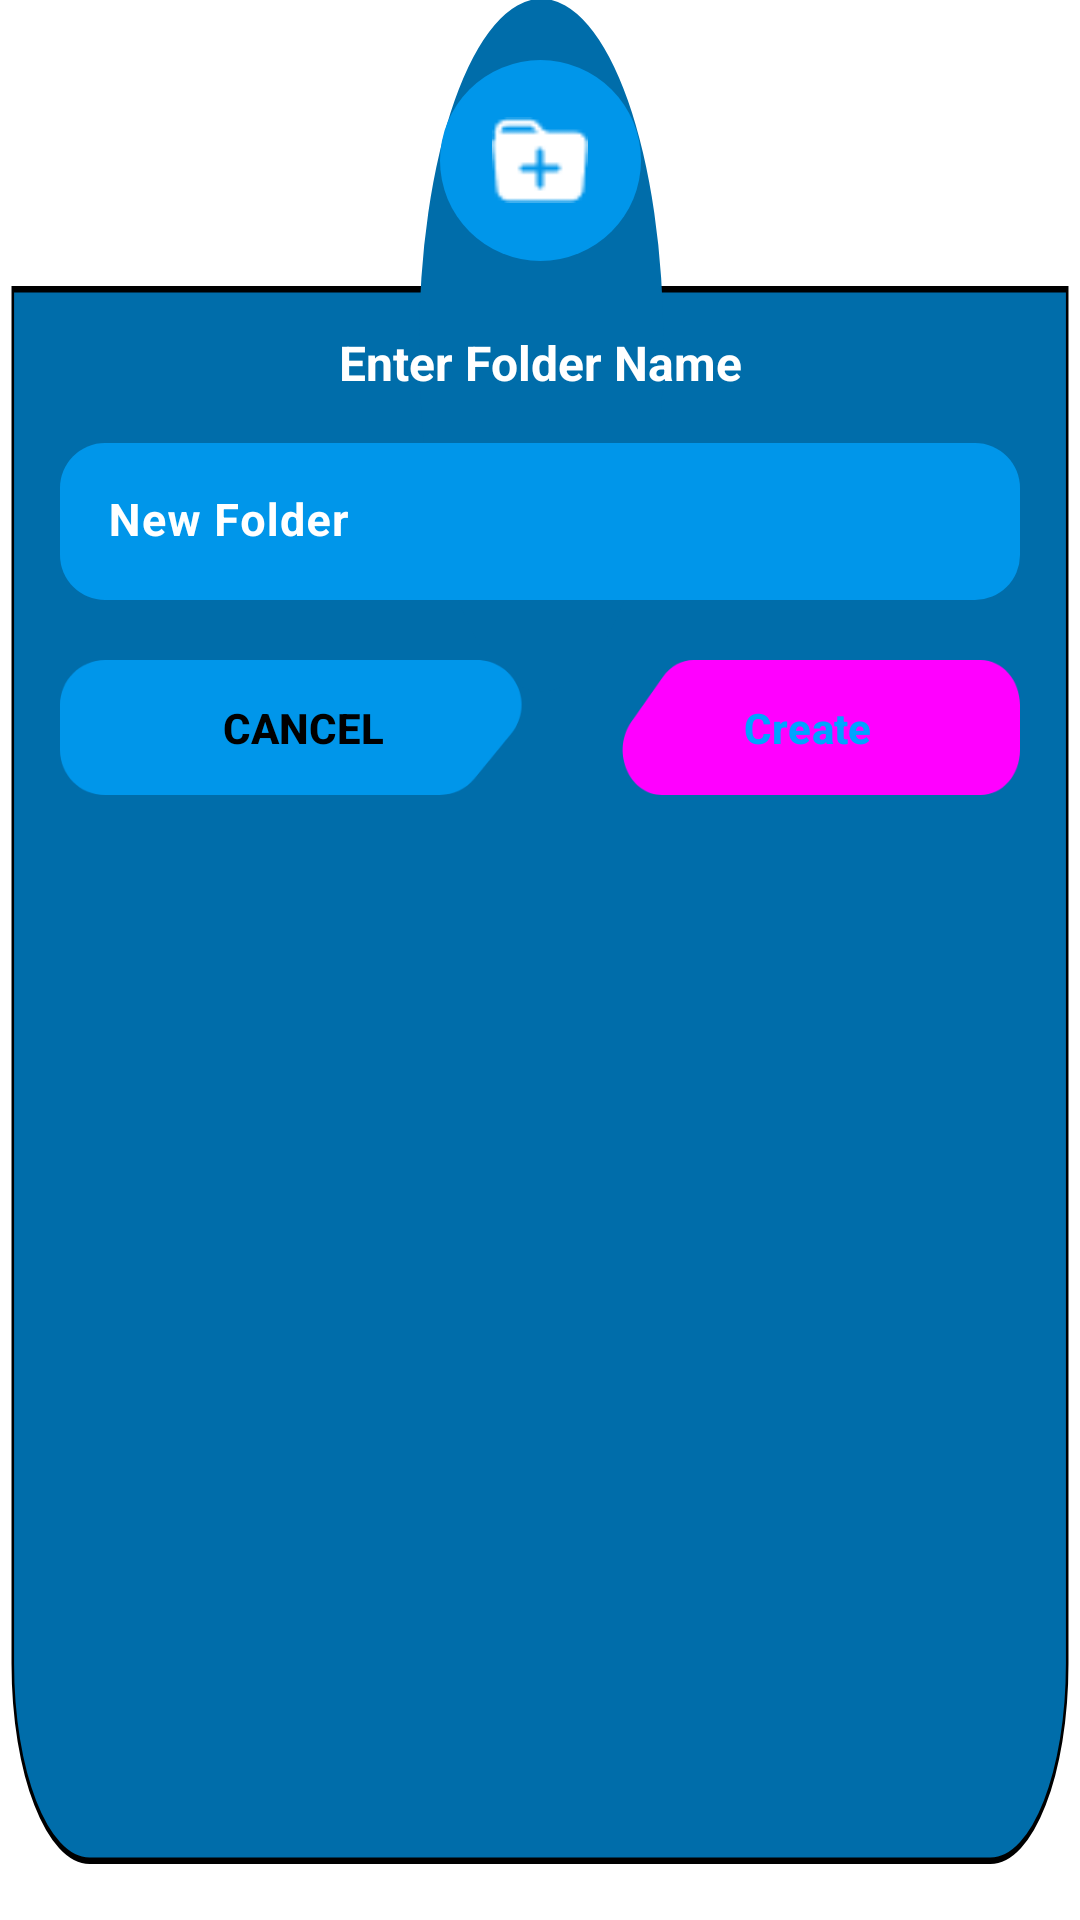

Point at icon controls on the screen. Image size 1080 × 1920, points as [x,y].
create folder circle: [540,160]
